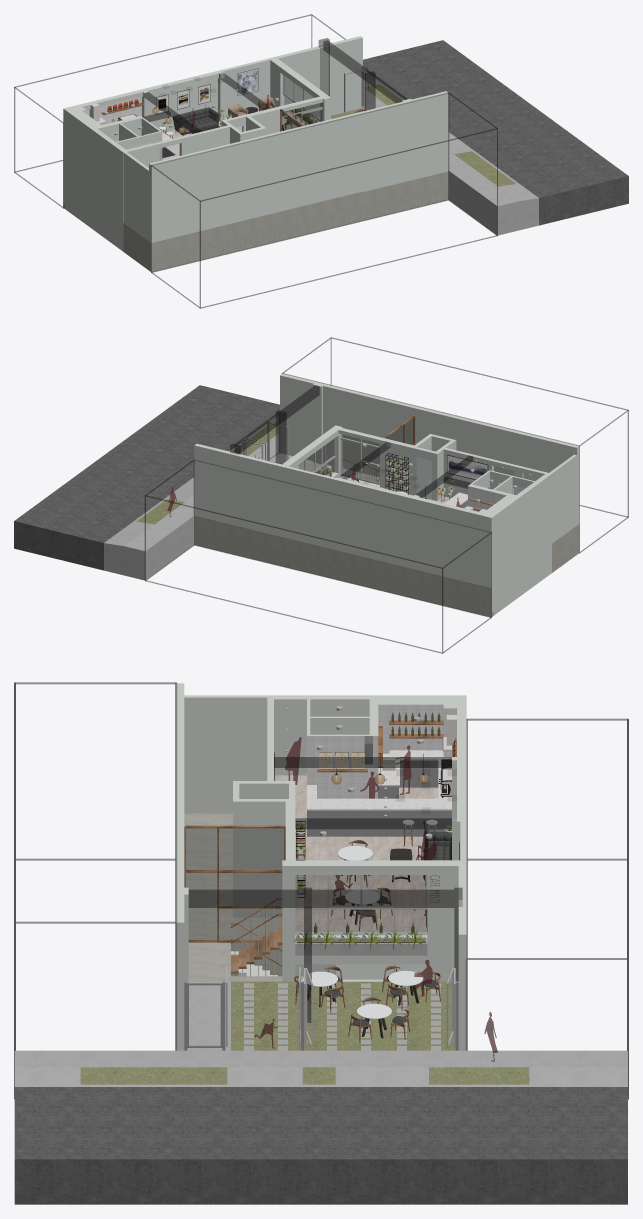
File: cafe.glb
The picture shows the model from 3 angles, top to bottom: view 1: azimuth 30°, elevation 25°; view 2: azimuth 150°, elevation 25°; view 3: azimuth 270°, elevation 25°; orthographic projection. The views are drawn at different scales.
Visible parts, largest first — view 1: Object_6, Object_30, Object_44, Object_8, Object_31, Object_38, Object_32, Object_16, Object_2; view 2: Object_6, Object_30, Object_44, Object_8, Object_31, Object_38, Object_52, Object_16, Object_3; view 3: Object_30, Object_6, Object_8, Object_31, Object_38, Object_45, Object_44, Object_16, Object_3, Object_43, Object_32, Object_29 (+3 smaller).
Part boxes in pixels (bbox=[...]): Object_6: bbox=[63, 36, 448, 251]; Object_30: bbox=[363, 40, 628, 225]; Object_44: bbox=[63, 171, 448, 272]; Object_8: bbox=[14, 14, 497, 308]; Object_31: bbox=[290, 72, 538, 235]; Object_38: bbox=[331, 84, 515, 186]; Object_32: bbox=[173, 107, 289, 135]; Object_16: bbox=[82, 97, 141, 124]; Object_2: bbox=[237, 69, 258, 95]; Object_6: bbox=[194, 373, 579, 615]; Object_30: bbox=[14, 385, 279, 570]; Object_44: bbox=[194, 474, 579, 617]; Object_8: bbox=[145, 337, 628, 653]; Object_31: bbox=[104, 416, 364, 580]; Object_38: bbox=[137, 422, 278, 524]; Object_52: bbox=[447, 455, 487, 479]; Object_16: bbox=[468, 486, 506, 511]; Object_3: bbox=[342, 415, 494, 510]; Object_30: bbox=[14, 1087, 627, 1204]; Object_6: bbox=[176, 683, 466, 1050]; Object_8: bbox=[14, 682, 628, 1099]; Object_31: bbox=[14, 937, 627, 1086]; Object_38: bbox=[80, 981, 529, 1084]; Object_45: bbox=[274, 775, 438, 931]; Object_44: bbox=[184, 813, 282, 981]; Object_16: bbox=[307, 704, 456, 798]; Object_3: bbox=[184, 720, 453, 1042]; Object_43: bbox=[307, 750, 451, 810]; Object_32: bbox=[296, 831, 451, 1025]; Object_29: bbox=[295, 715, 456, 835].
Size of the model in its own units: 26.12 by 6.28 by 19.65.
29 materials, 28 textured.
